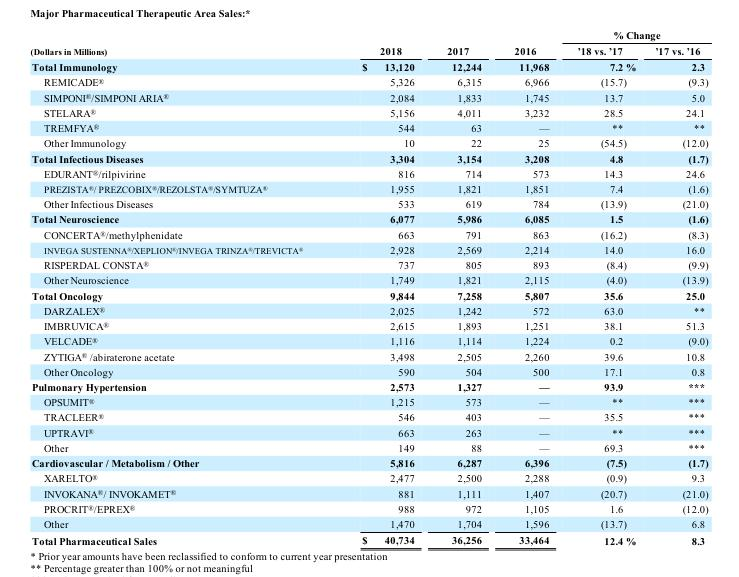table: (29, 28, 707, 546)
table column: (29, 28, 331, 546), (331, 28, 429, 546), (562, 28, 644, 546), (429, 28, 497, 546), (497, 28, 562, 546), (644, 28, 707, 546)
table column header: (29, 28, 707, 58)
table row: (29, 42, 707, 58), (29, 58, 707, 74), (29, 119, 707, 135), (29, 180, 707, 196), (29, 241, 707, 257), (29, 317, 707, 333), (29, 378, 707, 394), (29, 454, 707, 470), (29, 515, 707, 531), (29, 74, 707, 89), (29, 89, 707, 104), (29, 104, 707, 119), (29, 135, 707, 150), (29, 150, 707, 165), (29, 165, 707, 180), (29, 196, 707, 211), (29, 211, 707, 226), (29, 226, 707, 241), (29, 257, 707, 272), (29, 272, 707, 287), (29, 287, 707, 302), (29, 302, 707, 317), (29, 333, 707, 348), (29, 348, 707, 363), (29, 363, 707, 378), (29, 394, 707, 409), (29, 409, 707, 424), (29, 424, 707, 439), (29, 439, 707, 454), (29, 470, 707, 485), (29, 485, 707, 500), (29, 500, 707, 515), (29, 531, 707, 546), (29, 28, 707, 42)
table spanning cell: (29, 28, 331, 58), (331, 28, 429, 58), (429, 28, 497, 58), (562, 28, 707, 42), (497, 28, 562, 58)
